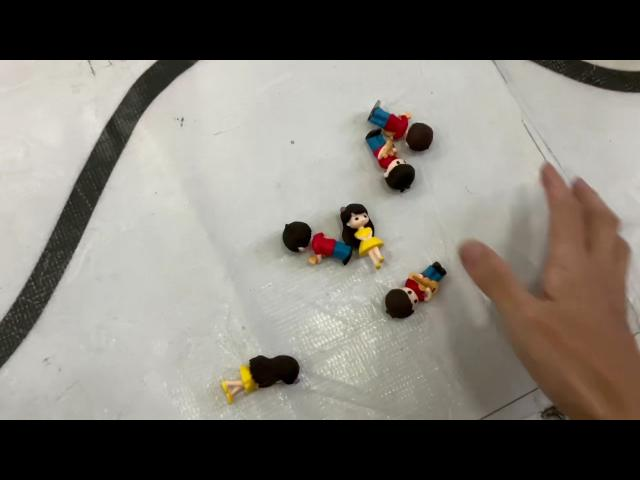man: (382, 258, 448, 324), (364, 94, 436, 154), (277, 214, 355, 268), (360, 130, 416, 194)
woman: (220, 352, 302, 404), (340, 199, 390, 270)
